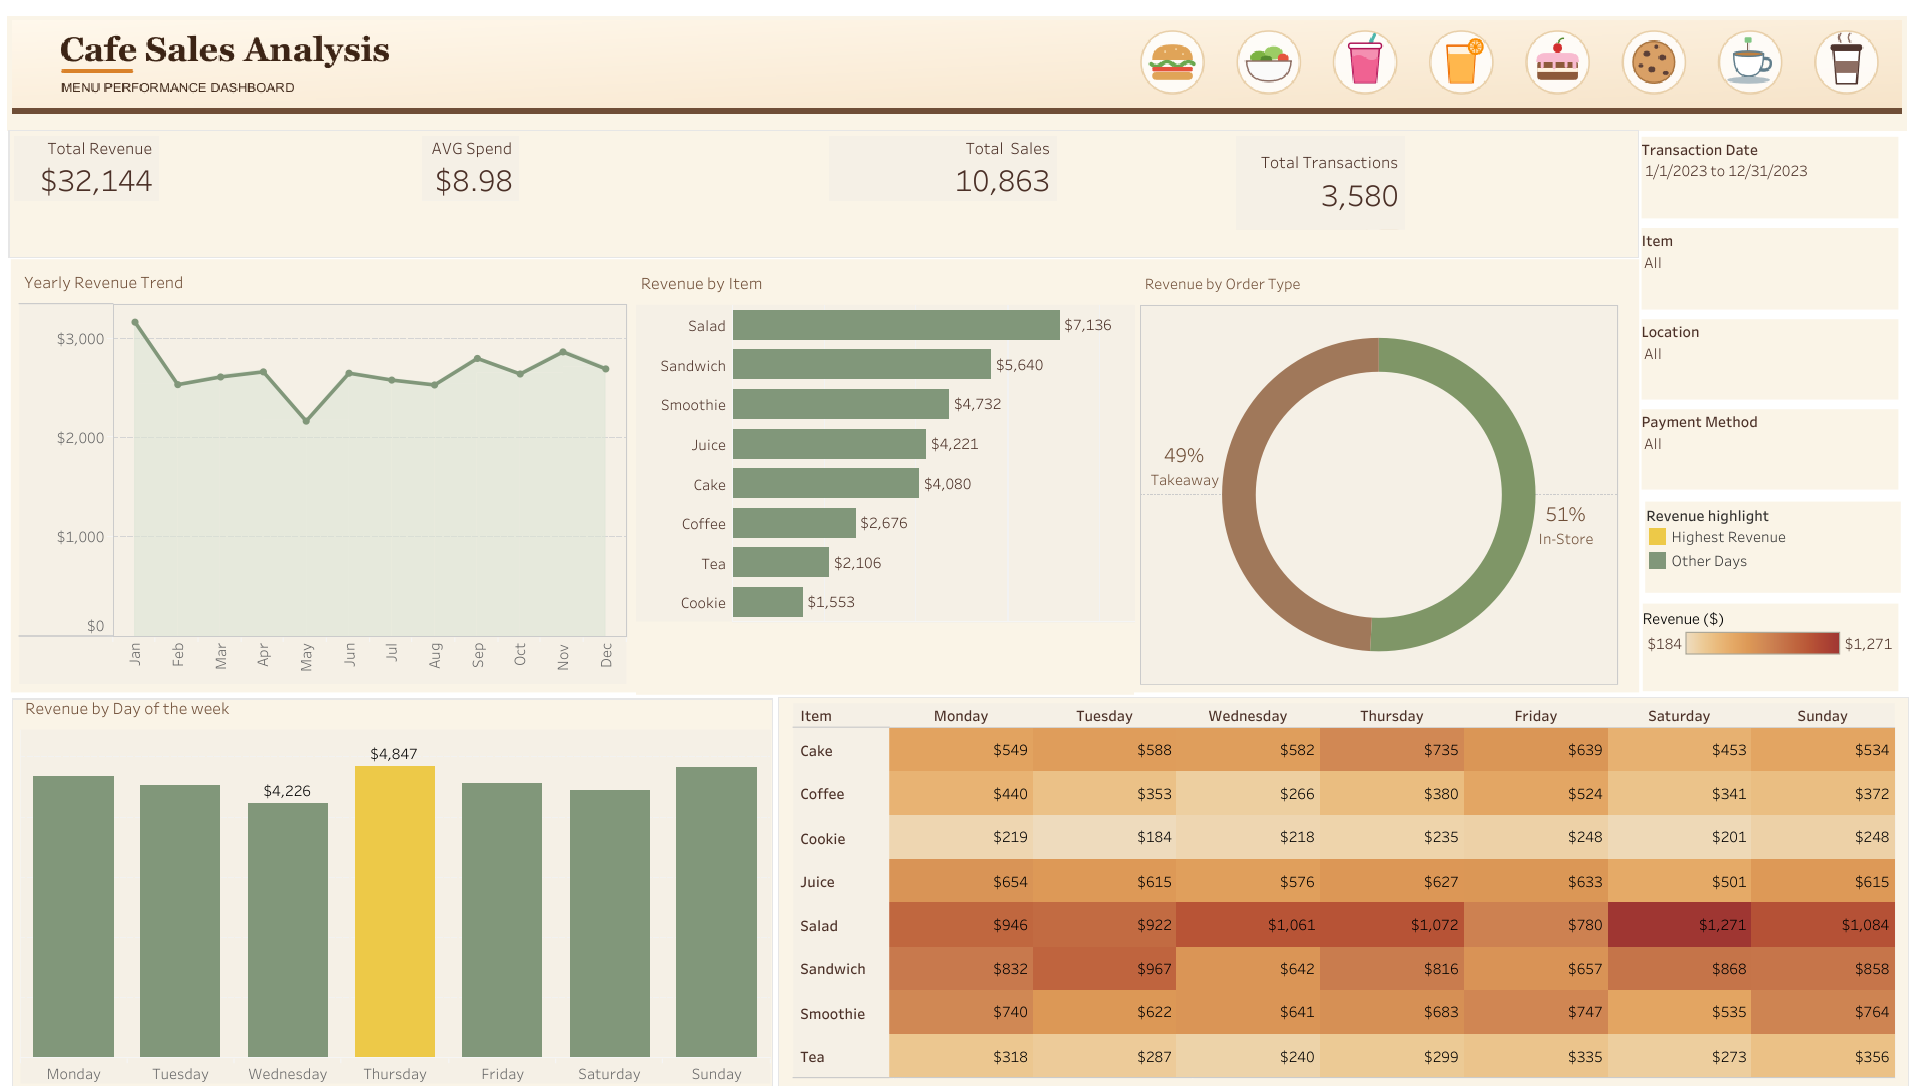

The page's visual inventory and layout, read from the dashboard file:
{"tool":"tableau","page":{"name":"Dashboard 2","canvas":[1604,906],"ordinal":1},"visuals":[{"type":"image","param":"Image/cafe_header_1570x78.svg","box":[6,13,1583,96]},{"type":"worksheet","title":"KPI - Total Transactions","mark":"Automatic","box":[8,109,340,105]},{"type":"worksheet","title":"KPI- Total Revenue","mark":"Automatic","box":[348,109,339,105]},{"type":"worksheet","title":"KPI - Average Spend per Transactions","mark":"Automatic","box":[687,109,339,105]},{"type":"worksheet","title":"KPI - Units Sold","mark":"Automatic","box":[1026,109,339,105]},{"type":"filter","title":"KPI- Total Revenue","param":"[federated.1bj2eau097xv0y1eyai2u1u5cf67].[none:Transaction Date:qk]","box":[1364,110,222,76]},{"type":"filter","title":"KPI- Total Revenue","param":"[federated.1bj2eau097xv0y1eyai2u1u5cf67].[none:Item:nk]","box":[1364,186,222,76]},{"type":"worksheet","title":"Yearly Revenue Trend","mark":"Line","rows":["Total Spent","Total Spent"],"cols":["Transaction Date"],"box":[16,219.2,507,351.8]},{"type":"worksheet","title":"Revenue by Item","mark":"Automatic","rows":["Item"],"cols":["Total Spent"],"box":[530,220.3,415,358.6]},{"type":"worksheet","title":"Revenue by  Order Type","mark":"Pie","rows":["Calculation_0376366828625921","Calculation_0376366828679171"],"box":[950,221.4,400,349.6]},{"type":"filter","title":"KPI- Total Revenue","param":"[federated.1bj2eau097xv0y1eyai2u1u5cf67].[none:Location:nk]","box":[1364,262,222,75]},{"type":"filter","title":"KPI- Total Revenue","param":"[federated.1bj2eau097xv0y1eyai2u1u5cf67].[none:Payment Method:nk]","box":[1364,337,222,75]},{"type":"legend","title":"Revenue by Day of Week","param":"[federated.1bj2eau097xv0y1eyai2u1u5cf67].[usr:Calculation_1072082342260737:nk:1]","box":[1371,418,213,76]},{"type":"legend","title":"Menu performance Heatmap ","param":"[federated.1bj2eau097xv0y1eyai2u1u5cf67].[sum:Total Spent:qk]","box":[1369,503,213,73]},{"type":"worksheet","title":"Revenue by Day of Week","mark":"Bar","rows":["Total Spent"],"cols":["Day_Name"],"box":[17,574.4,625,328.2]},{"type":"worksheet","title":"Menu performance Heatmap ","mark":"Square","rows":["Item"],"cols":["Day_Name"],"box":[661,585.6,919,313.6]}]}

Visuals, with their boxes in screenshot pixels (x1, y1, x2, y2), scaled from the page's 1604x906 canvas onto the 1924x1086 screenshot:
image: locate(7, 16, 1906, 131)
"KPI - Total Transactions" worksheet: locate(10, 131, 417, 257)
"KPI- Total Revenue" worksheet: locate(417, 131, 824, 257)
"KPI - Average Spend per Transactions" worksheet: locate(824, 131, 1231, 257)
"KPI - Units Sold" worksheet: locate(1231, 131, 1637, 257)
"KPI- Total Revenue" filter: locate(1636, 132, 1902, 223)
"KPI- Total Revenue" filter: locate(1636, 223, 1902, 314)
"Yearly Revenue Trend" worksheet (Line marks): locate(19, 263, 627, 684)
"Revenue by Item" worksheet: locate(636, 264, 1134, 694)
"Revenue by  Order Type" worksheet (Pie marks): locate(1140, 265, 1619, 684)
"KPI- Total Revenue" filter: locate(1636, 314, 1902, 404)
"KPI- Total Revenue" filter: locate(1636, 404, 1902, 494)
"Revenue by Day of Week" legend: locate(1645, 501, 1900, 592)
"Menu performance Heatmap " legend: locate(1642, 603, 1898, 690)
"Revenue by Day of Week" worksheet (Bar marks): locate(20, 689, 770, 1082)
"Menu performance Heatmap " worksheet (Square marks): locate(793, 702, 1895, 1078)
